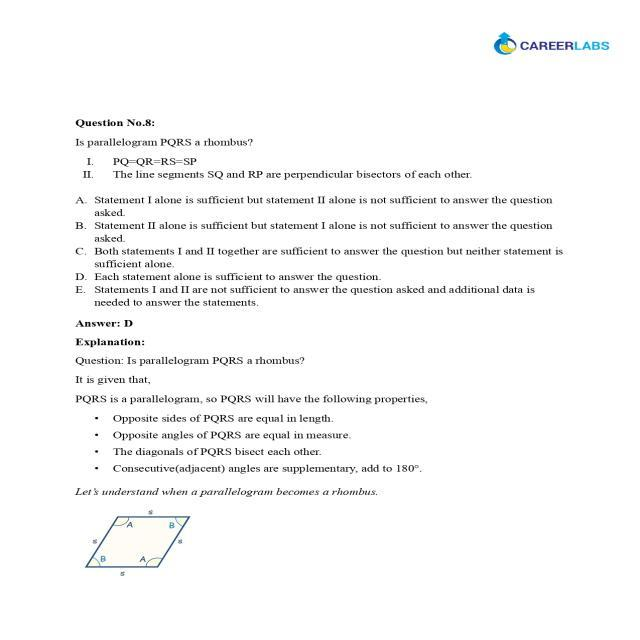Answer_Block: (62, 186, 580, 314)
Description: (62, 314, 580, 578)
Question_Answer_Block: (62, 111, 580, 314)
Question_Block: (62, 111, 580, 186)
Question_Paper_Area: (62, 111, 580, 577)
